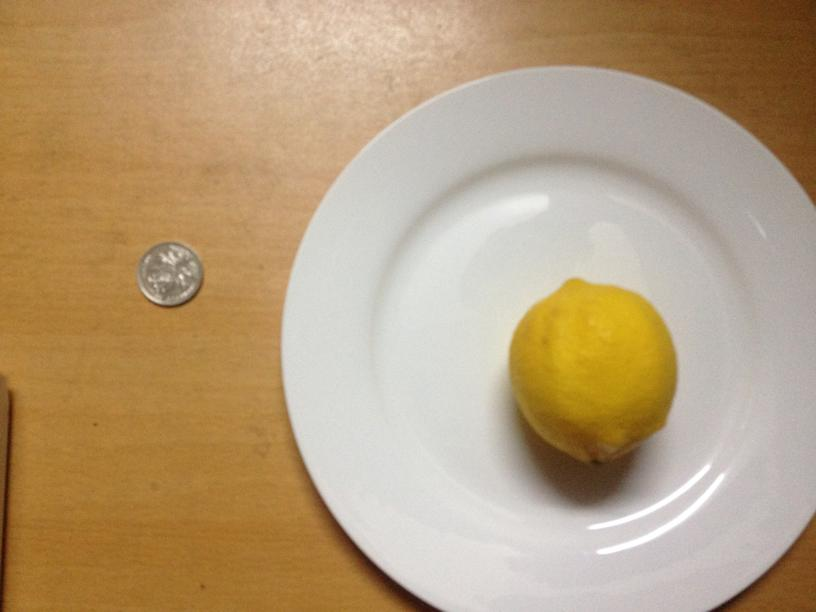coin: (135, 239, 202, 307)
lemon: (510, 275, 677, 463)
